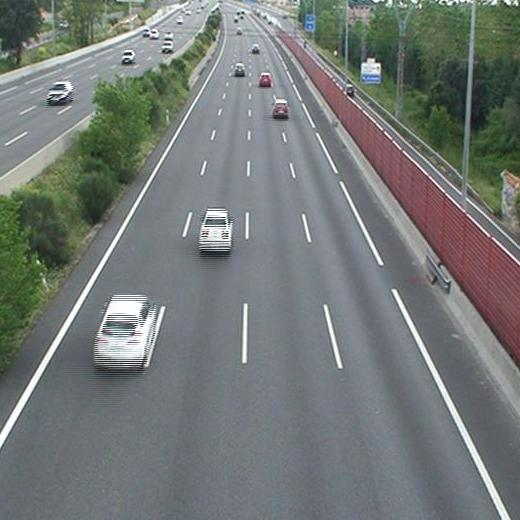car: (95, 295, 153, 366), (199, 210, 232, 250), (273, 100, 289, 116), (259, 73, 271, 85), (250, 43, 261, 54), (234, 63, 244, 75)
